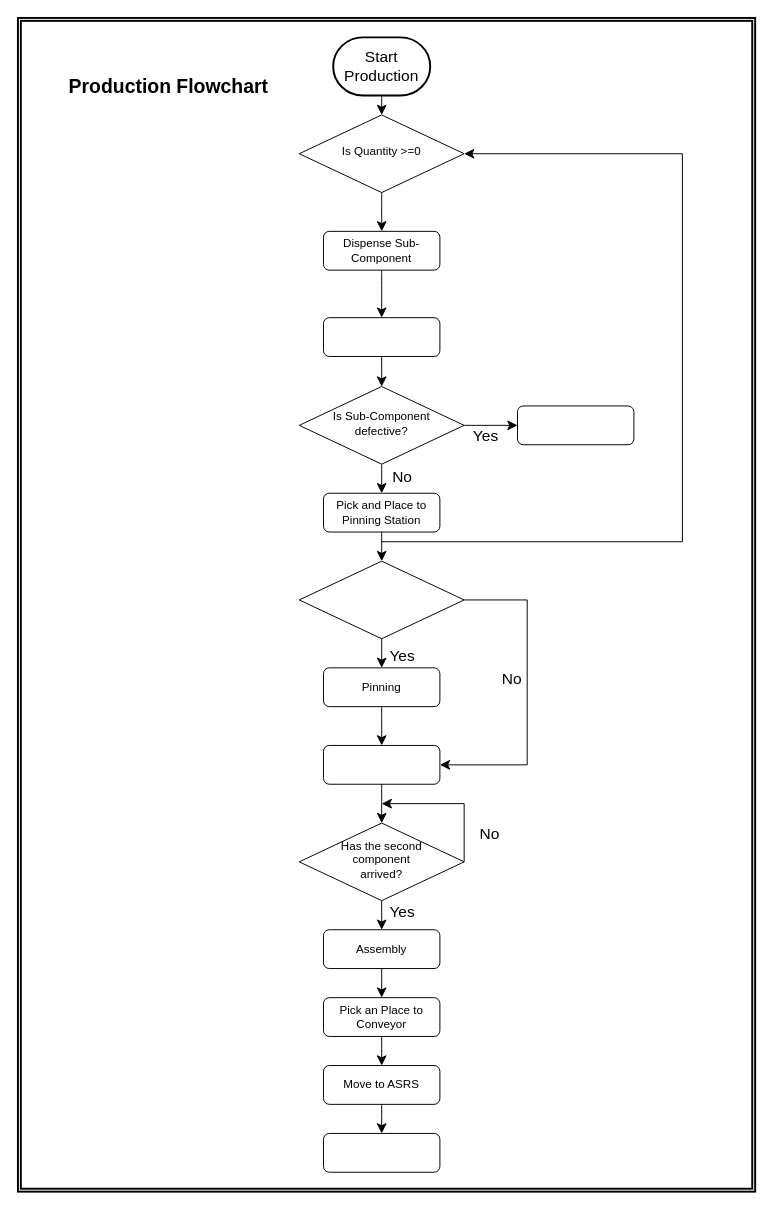
Some shapes in this 772 by 1209 pixel diagram are drawn without their labels. The centre of each missing label's shape, as x and y in pixels:
"Fault Detection" belongs at point 381,336.
"Is Sub-Component of type Aluminium?" belongs at point 381,599.
"Move to bin" belongs at point 575,425.
"Pick an Place to Assembly Station" belongs at point 381,764.
"Start Storage" belongs at point 381,1152.
